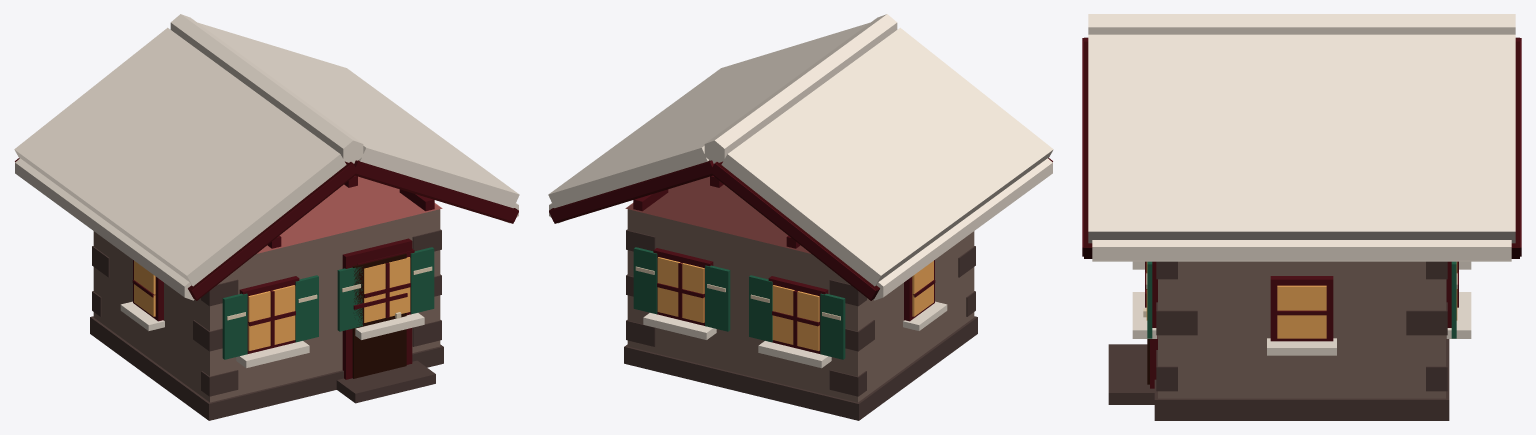
The model's file is rs_chalet_small.glb.
3 renders of one model, left to right at view 1: azimuth 30°, elevation 25°; view 2: azimuth 150°, elevation 25°; view 3: azimuth 270°, elevation 25°, orthographic. The views are drawn at different scales.
Visible parts, largest first — view 1: roof, body, door; view 2: roof, body; view 3: roof, body, door.
Boxes of the visible parts, x1,y1,x2,y2 form: roof: (14,14,519,300); body: (90,209,443,420); door: (336,238,435,403); roof: (548,14,1053,300); body: (624,209,977,420); roof: (1082,14,1521,261); body: (1132,261,1471,420); door: (1108,279,1157,404).
Size of the model in its own units: 5.81 by 4.51 by 5.34.
